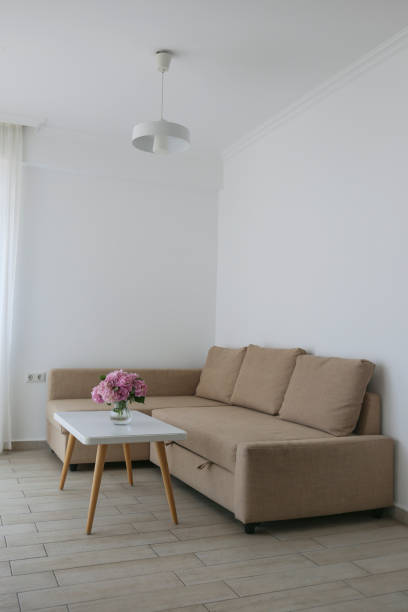flower vase: (92, 363, 150, 426)
sofa: (40, 340, 400, 536)
table: (47, 405, 189, 537)
